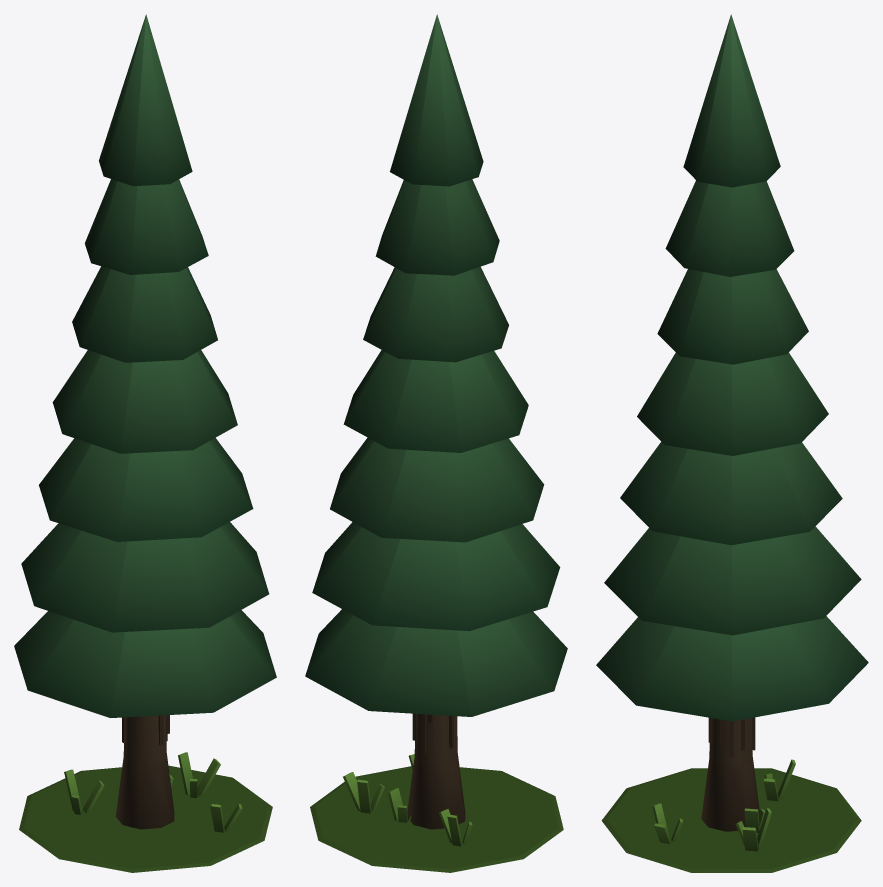
The model's file is lineside-pine.glb.
3 renders of one model, left to right at view 1: azimuth 30°, elevation 25°; view 2: azimuth 150°, elevation 25°; view 3: azimuth 270°, elevation 25°, orthographic.
Parts seen in each view (by area): view 1: lineside_pine; view 2: lineside_pine; view 3: lineside_pine.
Boxes of the visible parts, x1,y1,x2,y2 form: lineside_pine: (14,14,276,872); lineside_pine: (305,14,567,872); lineside_pine: (596,14,868,872).
Bounding box in the file's own units: 1.96 × 6.41 × 1.96.
